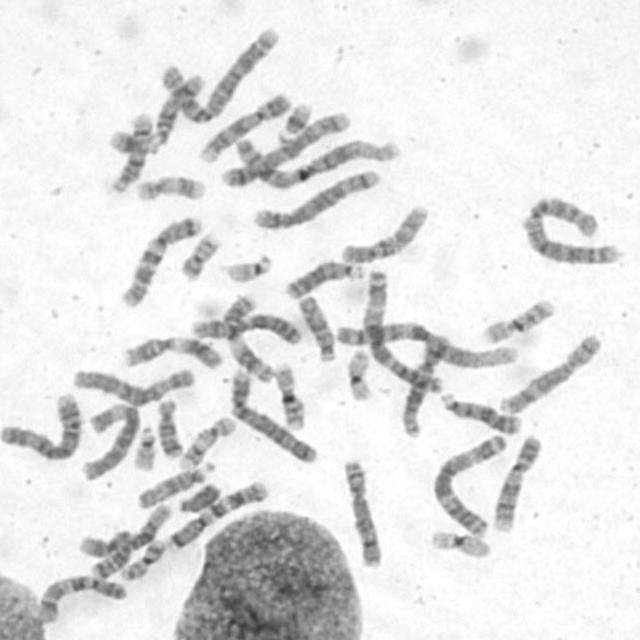A1: (217, 133, 402, 189), (333, 319, 519, 369)
A2: (155, 24, 281, 127), (518, 194, 622, 267)
A3: (360, 266, 445, 396), (428, 431, 509, 539)
B4: (227, 364, 318, 464), (0, 391, 84, 462)
B5: (216, 107, 351, 189), (249, 165, 384, 231)
C10: (336, 200, 430, 266), (34, 576, 126, 619)
C11: (219, 290, 276, 386), (118, 332, 225, 370)
C12: (396, 337, 455, 440), (74, 500, 173, 560)
C6: (68, 364, 197, 406), (78, 399, 142, 480)
C7: (117, 210, 203, 308), (164, 476, 269, 552)
C8: (495, 329, 605, 417), (339, 456, 384, 570)
C9: (195, 90, 293, 164), (489, 431, 544, 534)
D13: (437, 388, 522, 436), (281, 257, 364, 300)
D14: (106, 108, 154, 194), (156, 70, 207, 144)
D15: (133, 458, 219, 509), (295, 291, 337, 364)
E16: (478, 294, 557, 346), (271, 358, 307, 431)
E17: (176, 414, 237, 470), (132, 171, 208, 204)
E18: (90, 527, 134, 581), (153, 395, 185, 459)
F19: (426, 526, 492, 560), (343, 347, 375, 402)
F20: (177, 231, 224, 282), (120, 538, 170, 582)
G21: (99, 124, 166, 158), (275, 99, 314, 141)
G22: (220, 251, 274, 285), (131, 423, 157, 471)
X: (186, 310, 305, 344)
Y: (176, 479, 224, 514)
